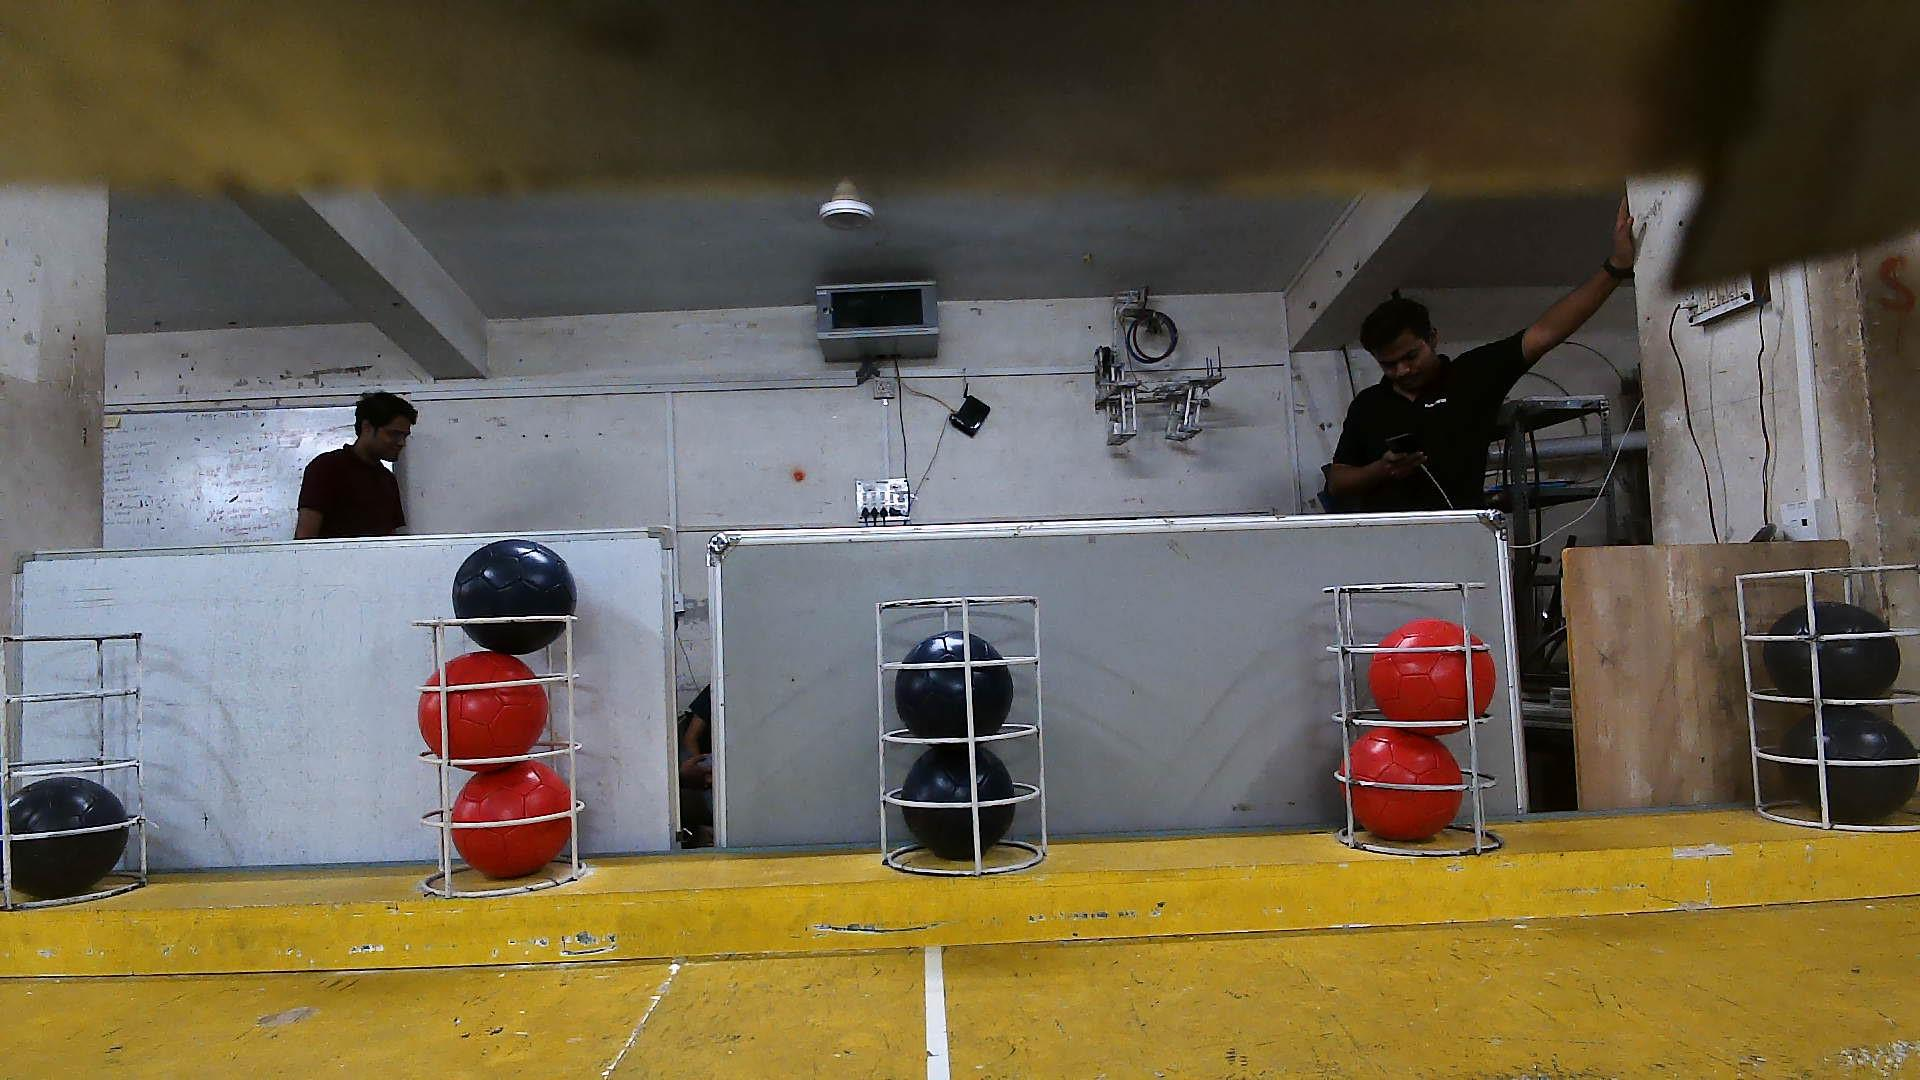dhoka: (1782, 705, 1919, 815), (8, 777, 128, 897), (452, 541, 575, 655), (895, 630, 1013, 746), (902, 742, 1017, 857), (1764, 604, 1900, 700)
laale: (451, 764, 574, 880), (419, 650, 547, 758), (1346, 729, 1461, 844), (1371, 621, 1494, 727)
